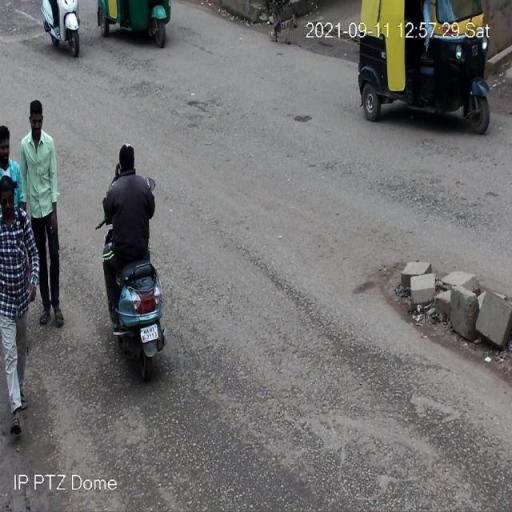using mobile: (112, 156, 124, 180)
